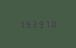nine: (24, 20, 30, 28), (39, 19, 45, 27)
seven: (17, 20, 23, 28), (46, 19, 52, 27)
three: (32, 20, 38, 27)
zero: (53, 19, 59, 27)
